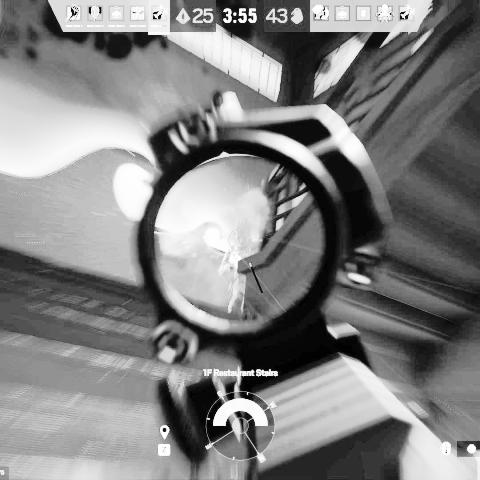Character: (216, 219, 264, 317)
Head: (232, 221, 252, 247)
